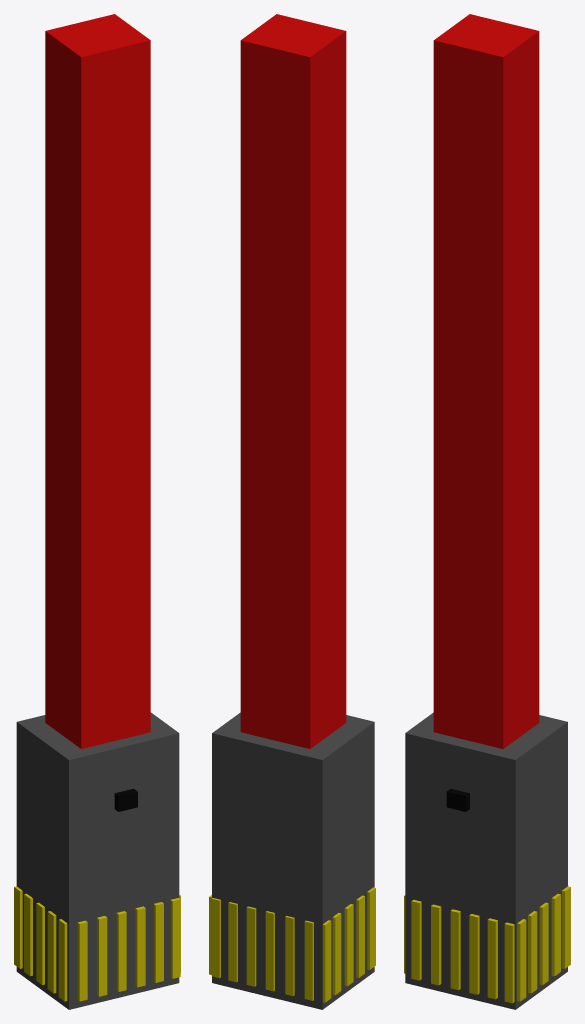
File: lightsaber.obj
3 views of the same model, side by side, from view 1: azimuth 30°, elevation 25°; view 2: azimuth 150°, elevation 25°; view 3: azimuth 330°, elevation 25° (orthographic).
Parts seen in each view (by area): view 1: Cube.001_Cube.001, Cube_Cube, Cube.016_Cube.045, Cube.018_Cube.047, Cube.014_Cube.043, Cube.017_Cube.046, Cube.013_Cube.042, Cube.015_Cube.044, Cube.003_Cube.032, Cube.023_Cube.023, Cube.006_Cube.035, Cube.004_Cube.033 (+2 smaller); view 2: Cube.001_Cube.001, Cube_Cube, Cube.010_Cube.039, Cube.004_Cube.033, Cube.005_Cube.034, Cube.006_Cube.035, Cube.007_Cube.036, Cube.008_Cube.037, Cube.009_Cube.038, Cube.011_Cube.040, Cube.012_Cube.041, Cube.023_Cube.023 (+1 smaller); view 3: Cube.001_Cube.001, Cube_Cube, Cube.015_Cube.044, Cube.017_Cube.046, Cube.013_Cube.042, Cube.018_Cube.047, Cube.014_Cube.043, Cube.016_Cube.045, Cube.021_Cube.050, Cube.022_Cube.051, Cube.019_Cube.048, Cube.020_Cube.049 (+2 smaller).
Boxes of the visible parts, bbox=[...] form: Cube.001_Cube.001: bbox=[45, 14, 150, 748]; Cube_Cube: bbox=[16, 712, 179, 1009]; Cube.016_Cube.045: bbox=[116, 911, 126, 991]; Cube.018_Cube.047: bbox=[77, 920, 87, 1001]; Cube.014_Cube.043: bbox=[153, 902, 163, 982]; Cube.017_Cube.046: bbox=[97, 916, 107, 996]; Cube.013_Cube.042: bbox=[170, 898, 180, 978]; Cube.015_Cube.044: bbox=[135, 906, 145, 987]; Cube.003_Cube.032: bbox=[58, 919, 67, 1001]; Cube.023_Cube.023: bbox=[47, 911, 56, 993]; Cube.006_Cube.035: bbox=[14, 886, 22, 968]; Cube.004_Cube.033: bbox=[36, 902, 44, 984]; Cube.001_Cube.001: bbox=[240, 14, 346, 748]; Cube_Cube: bbox=[212, 712, 374, 1009]; Cube.010_Cube.039: bbox=[246, 906, 256, 986]; Cube.004_Cube.033: bbox=[344, 904, 353, 986]; Cube.005_Cube.034: bbox=[332, 913, 341, 995]; Cube.006_Cube.035: bbox=[322, 920, 331, 1002]; Cube.007_Cube.036: bbox=[304, 920, 313, 1000]; Cube.008_Cube.037: bbox=[285, 916, 294, 995]; Cube.009_Cube.038: bbox=[265, 911, 274, 991]; Cube.011_Cube.040: bbox=[228, 902, 237, 982]; Cube.012_Cube.041: bbox=[211, 898, 220, 978]; Cube.023_Cube.023: bbox=[356, 895, 364, 977]; Cube.001_Cube.001: bbox=[433, 14, 539, 748]; Cube_Cube: bbox=[405, 712, 567, 1009]; Cube.015_Cube.044: bbox=[469, 914, 479, 994]; Cube.017_Cube.046: bbox=[431, 904, 441, 985]; Cube.013_Cube.042: bbox=[504, 922, 514, 1003]; Cube.018_Cube.047: bbox=[411, 899, 421, 980]; Cube.014_Cube.043: bbox=[487, 918, 497, 999]; Cube.016_Cube.045: bbox=[450, 909, 460, 990]; Cube.021_Cube.050: bbox=[551, 894, 560, 976]; Cube.022_Cube.051: bbox=[539, 902, 548, 985]; Cube.019_Cube.048: bbox=[528, 911, 537, 993]; Cube.020_Cube.049: bbox=[561, 886, 570, 968].
Bounding box in the file's own units: 0.5316 × 4.12 × 0.457.
